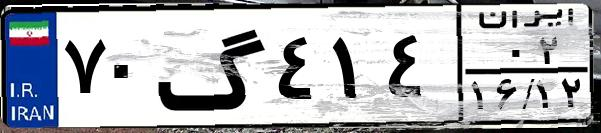0: (110, 28, 156, 98), (508, 27, 537, 80)
1: (330, 28, 385, 110), (470, 70, 495, 125), (535, 70, 560, 125)
2: (560, 70, 590, 125), (537, 27, 568, 80)
4: (270, 28, 330, 110), (385, 28, 445, 110)
6: (495, 70, 520, 125)
7: (57, 26, 110, 100)
گ: (156, 12, 270, 120)
